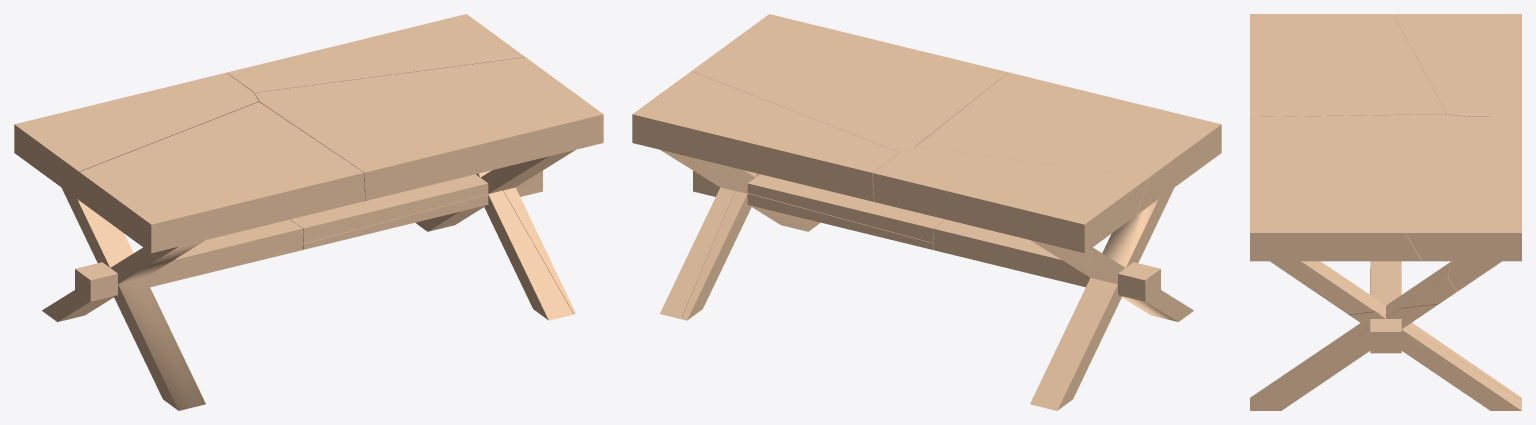
Rendered from table_pieces.glb.
The picture shows the model from 3 angles, left to right: view 1: azimuth 30°, elevation 25°; view 2: azimuth 150°, elevation 25°; view 3: azimuth 270°, elevation 25°; orthographic projection.
Visible parts, largest first — view 1: tableCross_cell.002-convcol, tableCross_cell.005-convcol, tableCross_cell.004-convcol, tableCross_cell.001-convcol, tableCross_cell-convcol, tableCross_cell.003-convcol; view 2: tableCross_cell.002-convcol, tableCross_cell.005-convcol, tableCross_cell.004-convcol, tableCross_cell.001-convcol, tableCross_cell-convcol, tableCross_cell.003-convcol; view 3: tableCross_cell.005-convcol, tableCross_cell.002-convcol, tableCross_cell.001-convcol, tableCross_cell.004-convcol, tableCross_cell.003-convcol, tableCross_cell-convcol.
Boxes of the visible parts, box(x1,y1,x2,y2) form: tableCross_cell.002-convcol: box(42, 102, 364, 410); tableCross_cell.005-convcol: box(254, 57, 603, 243); tableCross_cell.004-convcol: box(14, 72, 258, 208); tableCross_cell.001-convcol: box(227, 14, 525, 92); tableCross_cell-convcol: box(303, 190, 573, 320); tableCross_cell.003-convcol: box(436, 170, 575, 314); tableCross_cell.002-convcol: box(916, 72, 1221, 410); tableCross_cell.005-convcol: box(691, 14, 1008, 242); tableCross_cell.004-convcol: box(872, 146, 1148, 265); tableCross_cell.001-convcol: box(632, 71, 899, 201); tableCross_cell-convcol: box(681, 190, 933, 320); tableCross_cell.003-convcol: box(660, 170, 784, 318); tableCross_cell.005-convcol: box(1250, 114, 1466, 315); tableCross_cell.002-convcol: box(1250, 14, 1446, 117); tableCross_cell.001-convcol: box(1405, 116, 1521, 291); tableCross_cell.004-convcol: box(1394, 14, 1521, 116); tableCross_cell.003-convcol: box(1250, 304, 1521, 410); tableCross_cell-convcol: box(1250, 323, 1521, 409).
Bounding box in the file's own units: 2.29 × 0.9331 × 1.2.
